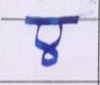u_matra: (40, 50, 60, 67)
